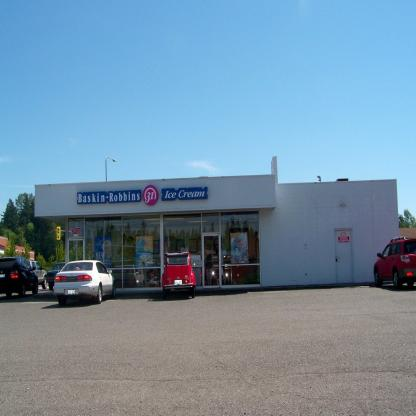Car: (50, 259, 112, 304), (375, 238, 416, 294), (1, 256, 39, 301), (161, 252, 197, 299), (27, 256, 49, 288), (50, 265, 66, 287)
